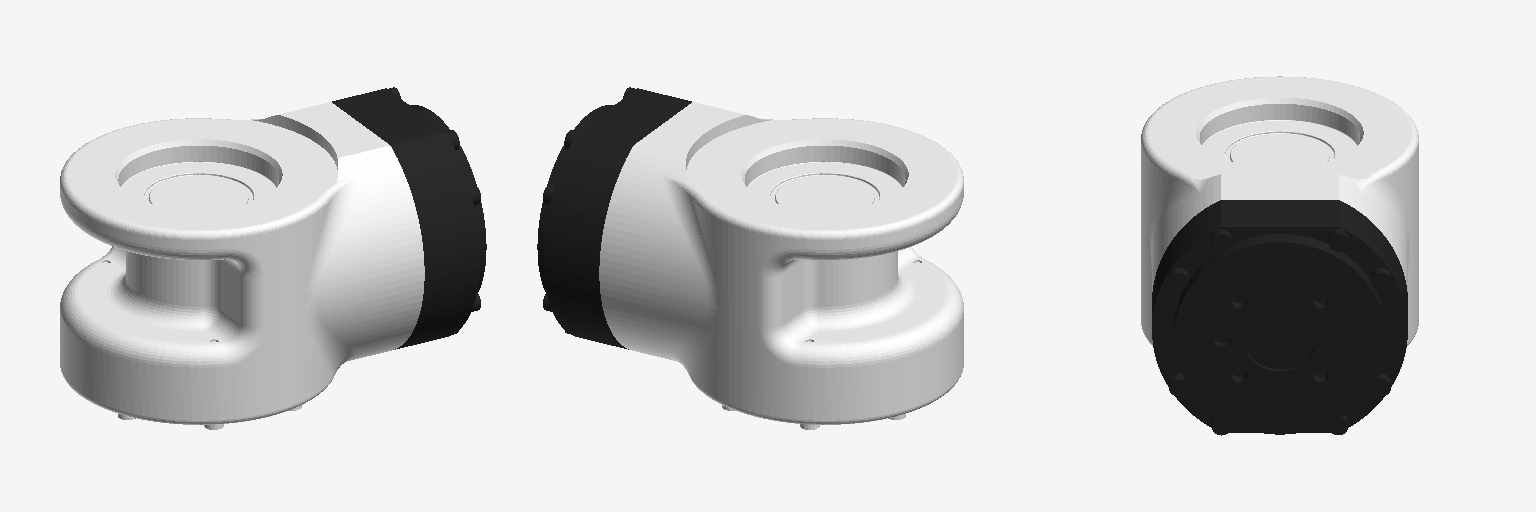
The picture shows the model from 3 angles: view 1: azimuth 30°, elevation 25°; view 2: azimuth 150°, elevation 25°; view 3: azimuth 270°, elevation 25°; orthographic projection.
Parts seen in each view (by area): view 1: Body1, Body2; view 2: Body1, Body2; view 3: Body2, Body1.
Part boxes in pixels (bbox=[...]): Body1: bbox=[60, 102, 424, 429]; Body2: bbox=[332, 87, 486, 349]; Body1: bbox=[599, 102, 963, 429]; Body2: bbox=[537, 87, 691, 349]; Body2: bbox=[1152, 200, 1407, 435]; Body1: bbox=[1141, 76, 1418, 345].
Size of the model in its own units: 11.2 by 6.45 by 7.6.